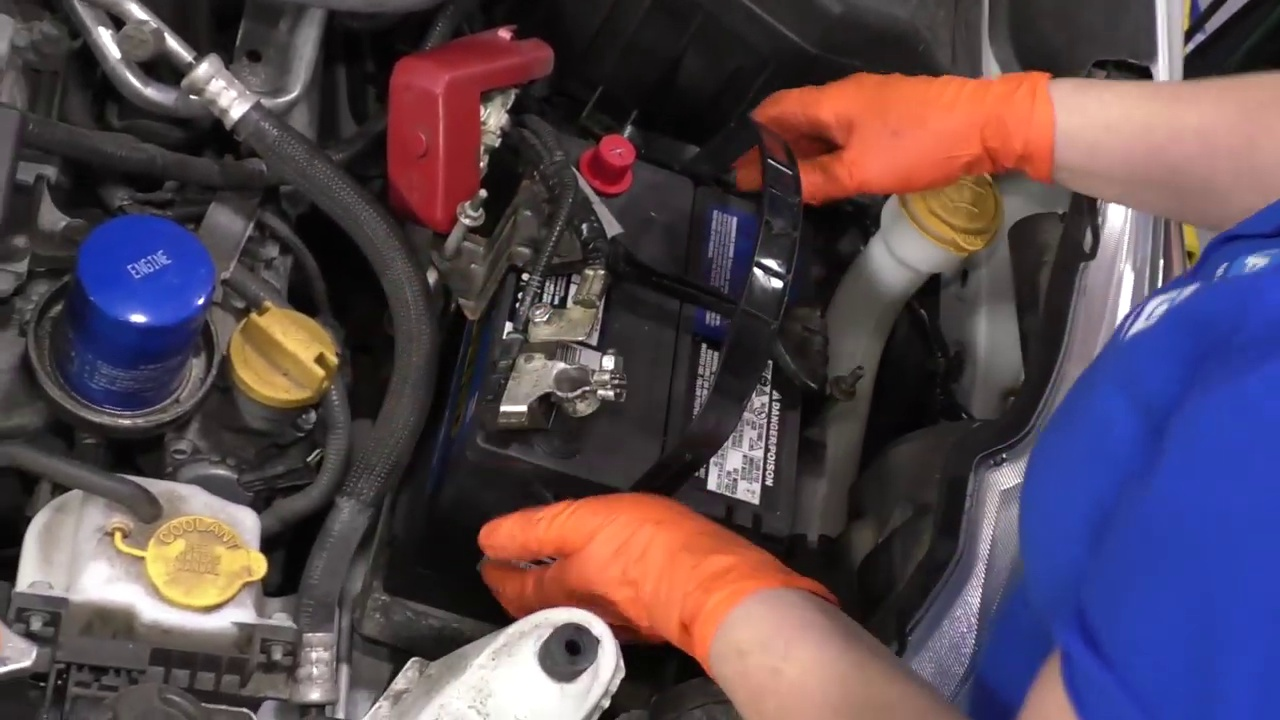battery: (494, 114, 821, 543)
pos_disconnected: (416, 38, 644, 223)
